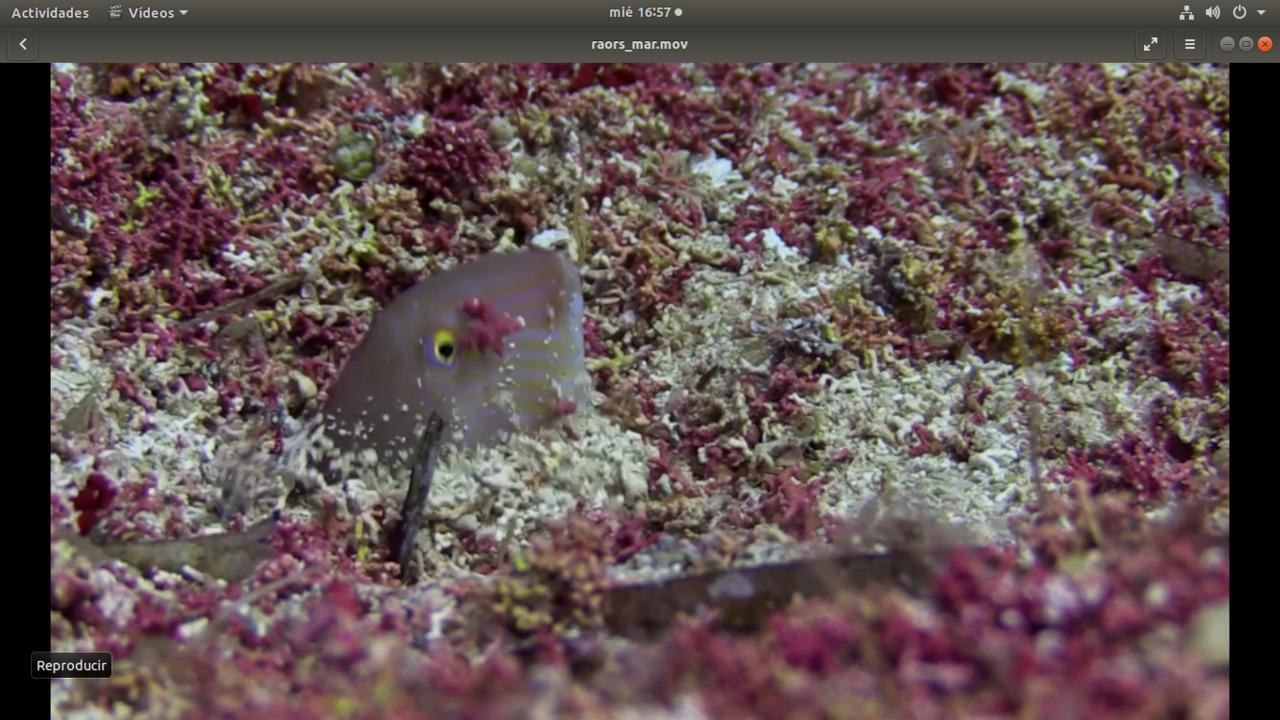raor: (321, 237, 597, 451)
